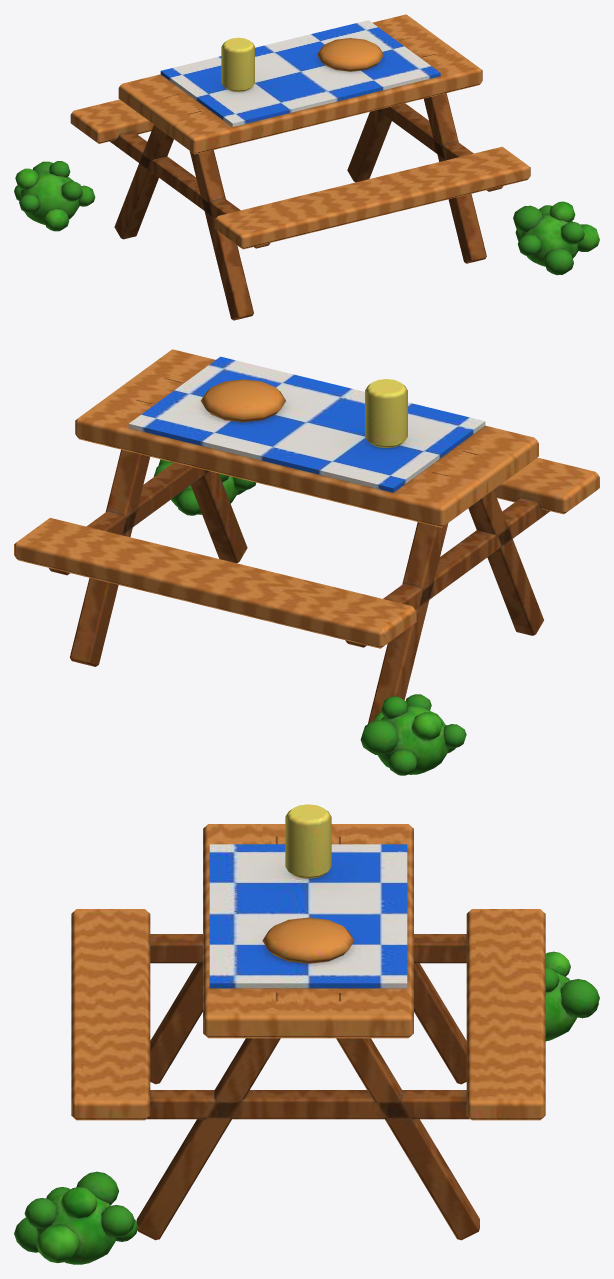
The model's file is picnic_table.glb.
3 views of the same model, one above another, from view 1: azimuth 30°, elevation 25°; view 2: azimuth 150°, elevation 25°; view 3: azimuth 270°, elevation 25° (orthographic). The views are drawn at different scales.
Visible parts, largest first — view 1: picnic_table; view 2: picnic_table; view 3: picnic_table.
Part boxes in pixels (bbox=[...]): picnic_table: bbox=[14, 14, 599, 320]; picnic_table: bbox=[14, 349, 599, 775]; picnic_table: bbox=[14, 804, 599, 1264].
Bounding box in the file's own units: 0.9832 × 0.5103 × 0.8894.
1 material, 1 textured.
